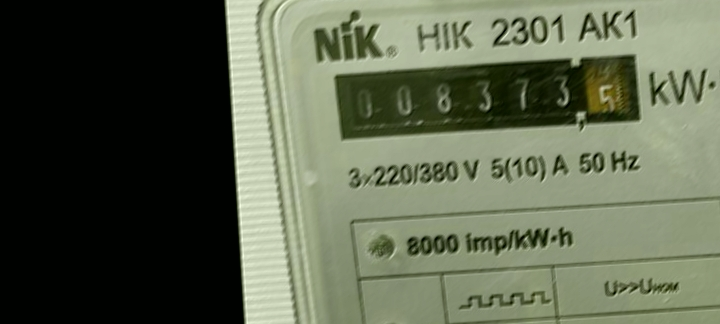0: (354, 84, 376, 121), (393, 80, 415, 117)
3: (472, 75, 496, 114), (550, 71, 574, 109)
4: (595, 60, 614, 81)
5: (597, 81, 618, 112)
7: (512, 72, 533, 112)
8: (432, 78, 456, 115)
screen: (328, 46, 650, 152)
